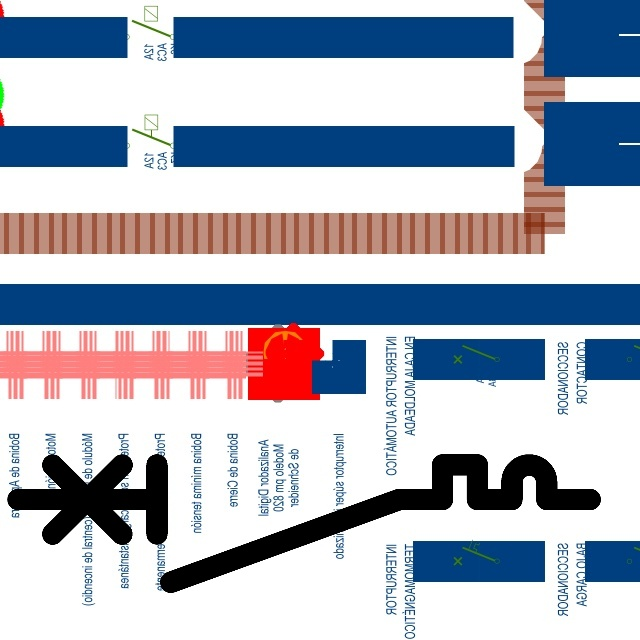interruptor_termomagnetico: (3, 450, 605, 597)
